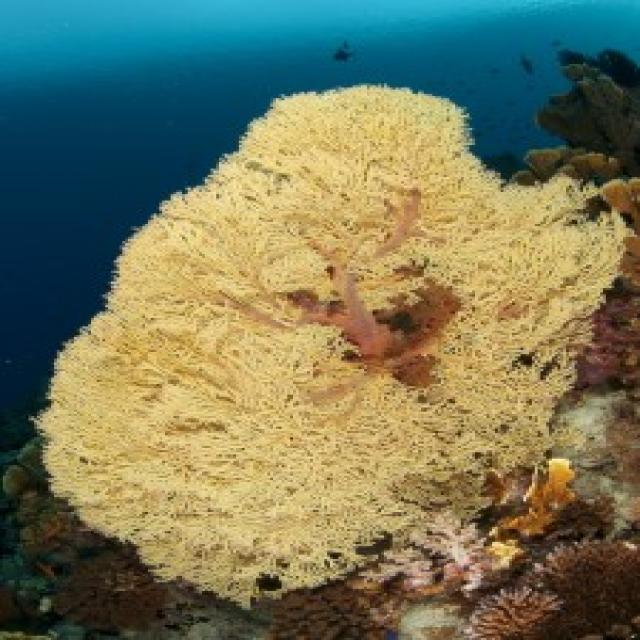Bleached: (35, 86, 618, 598)
Healthy: (4, 440, 257, 639), (465, 541, 638, 639), (576, 280, 635, 389), (271, 583, 376, 639)
